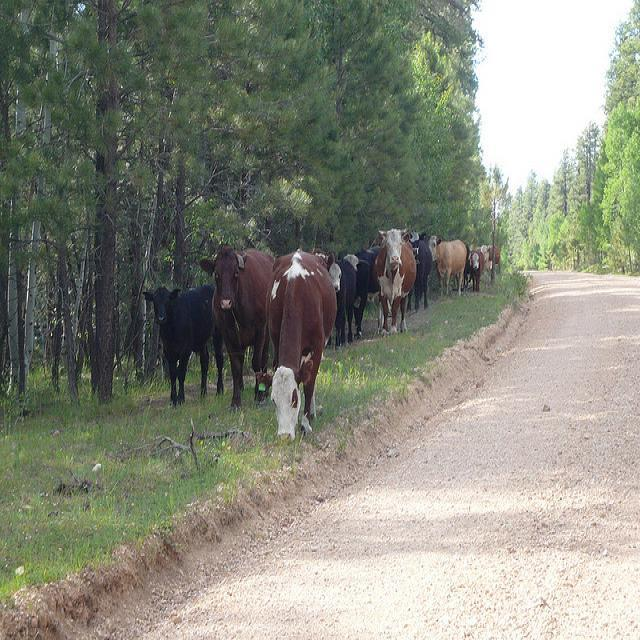cow: (266, 245, 335, 444), (198, 244, 274, 405), (144, 284, 221, 401), (371, 224, 416, 333), (326, 256, 356, 347), (427, 235, 467, 295), (344, 252, 370, 339), (413, 239, 431, 309), (354, 235, 380, 267), (467, 247, 484, 291), (479, 243, 499, 269)
